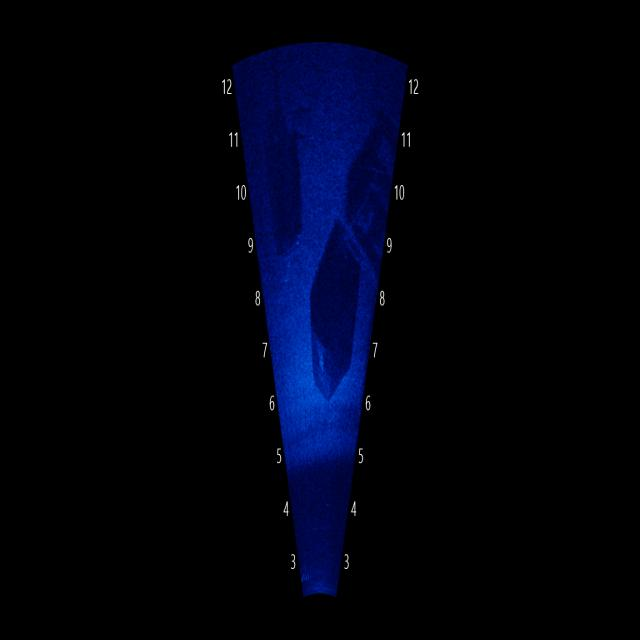square: (294, 200, 363, 419), (262, 106, 320, 248)
